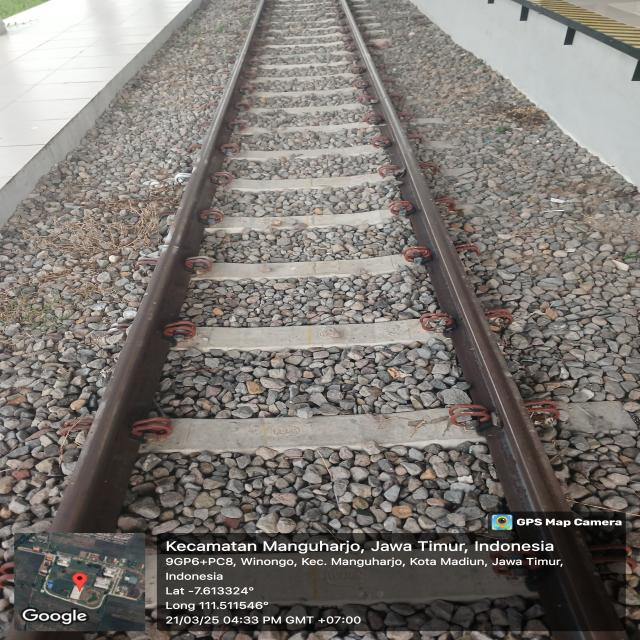rail-detection: (340, 0, 624, 640), (52, 0, 266, 532)
